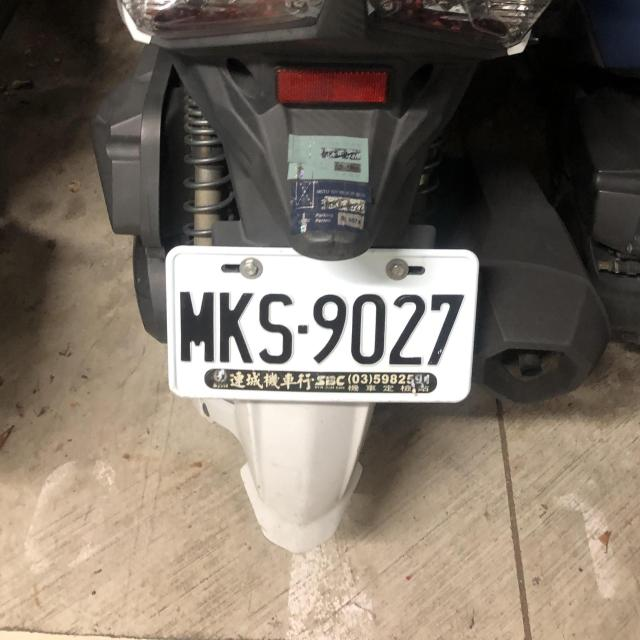W: (159, 240, 484, 408)
